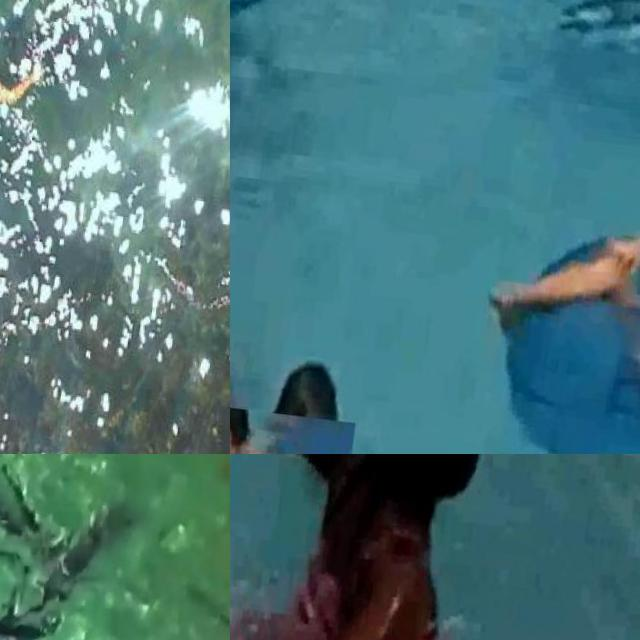drowning: (230, 327, 267, 404)
swimming: (246, 454, 557, 640), (515, 167, 640, 389), (252, 347, 360, 454), (0, 12, 64, 126), (230, 399, 354, 454)
